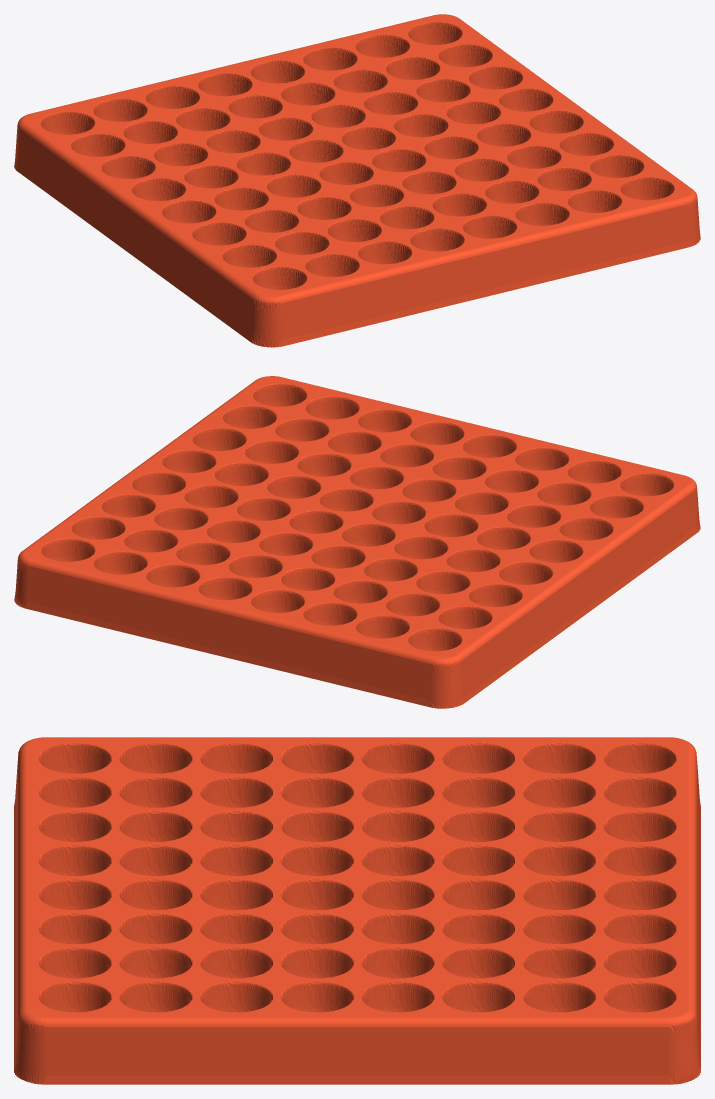
The model's file is mold.glb.
3 renders of one model, top to bottom at view 1: azimuth 30°, elevation 25°; view 2: azimuth 150°, elevation 25°; view 3: azimuth 270°, elevation 25°, orthographic. The views are drawn at different scales.
Parts seen in each view (by area): view 1: geometry_0; view 2: geometry_0; view 3: geometry_0.
Boxes of the visible parts, bbox=[...] form: geometry_0: bbox=[14, 14, 700, 347]; geometry_0: bbox=[14, 376, 700, 708]; geometry_0: bbox=[14, 737, 700, 1084].
Bounding box in the file's own units: 0.1886 × 0.0188 × 0.1886.
